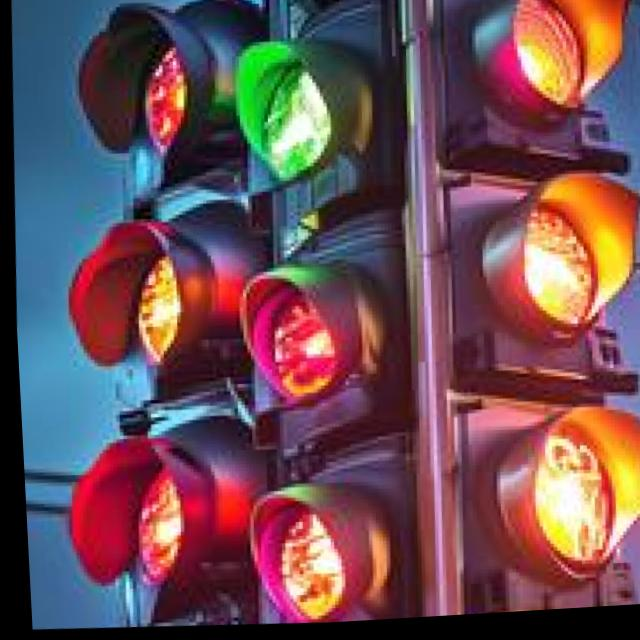green_light: (227, 0, 392, 212)
red_light: (218, 236, 391, 436)
yellow_light: (445, 146, 640, 353)
